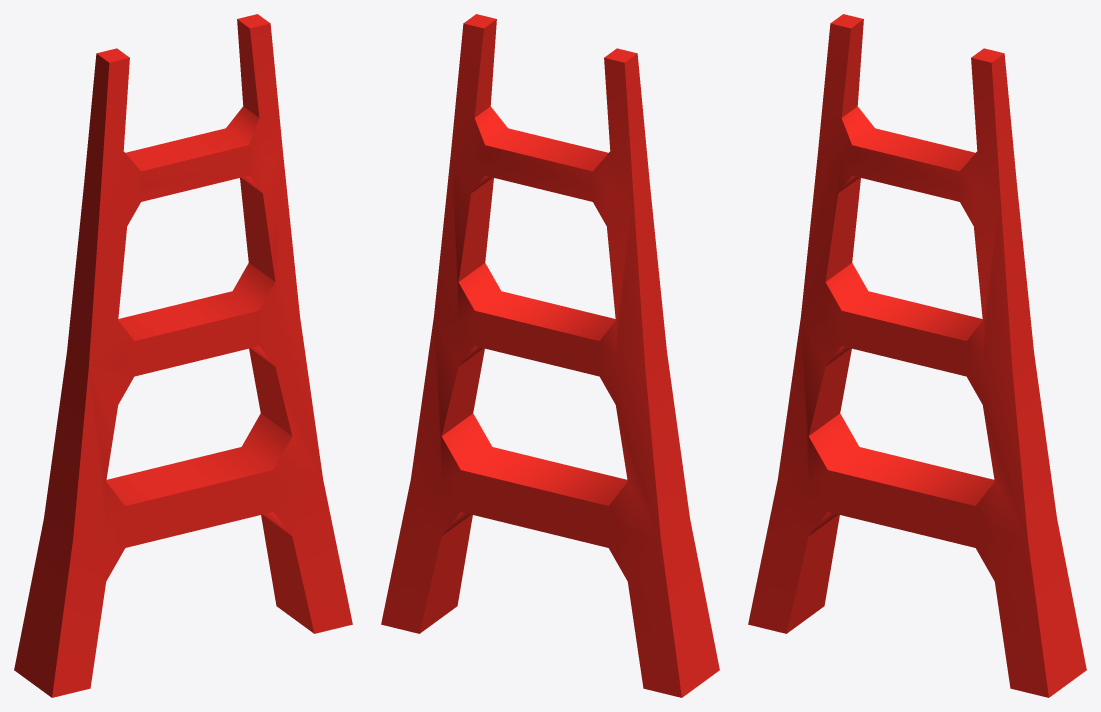
Rendered from brokenbridge.FBX.
The picture shows the model from 3 angles, left to right: view 1: azimuth 30°, elevation 25°; view 2: azimuth 150°, elevation 25°; view 3: azimuth 330°, elevation 25°; orthographic projection.
Parts seen in each view (by area): view 1: Box001; view 2: Box001; view 3: Box001.
Part boxes in pixels (x1=…): Box001: x1=14, y1=14, x2=352, y2=697; Box001: x1=381, y1=14, x2=719, y2=697; Box001: x1=748, y1=14, x2=1086, y2=697.
Size of the model in its own units: 284 by 548 by 62.01.
